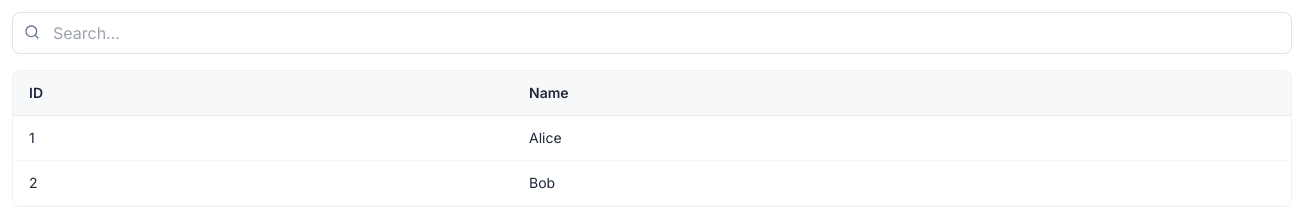
DataTable basic functionality › should show empty message when no data matches search
This screenshot has width=1304, height=224.
Note: Type search term that matches nothing
Type "Nonexistent" into the field with placeholder "Search..." at (652, 33), box x1=12 y1=12 x2=1292 y2=54
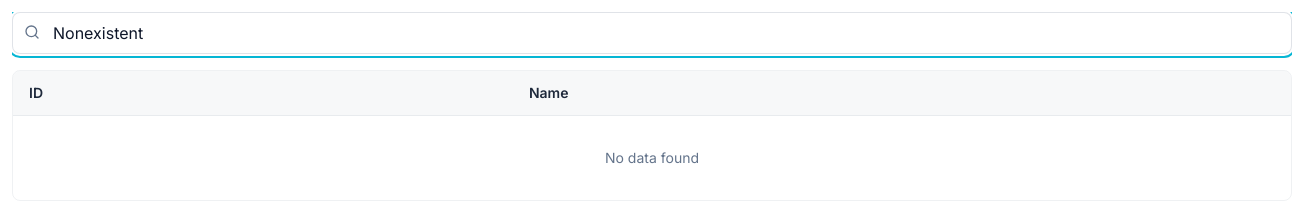
Now the text "No data found" is shown, box x1=13 y1=116 x2=1291 y2=200
